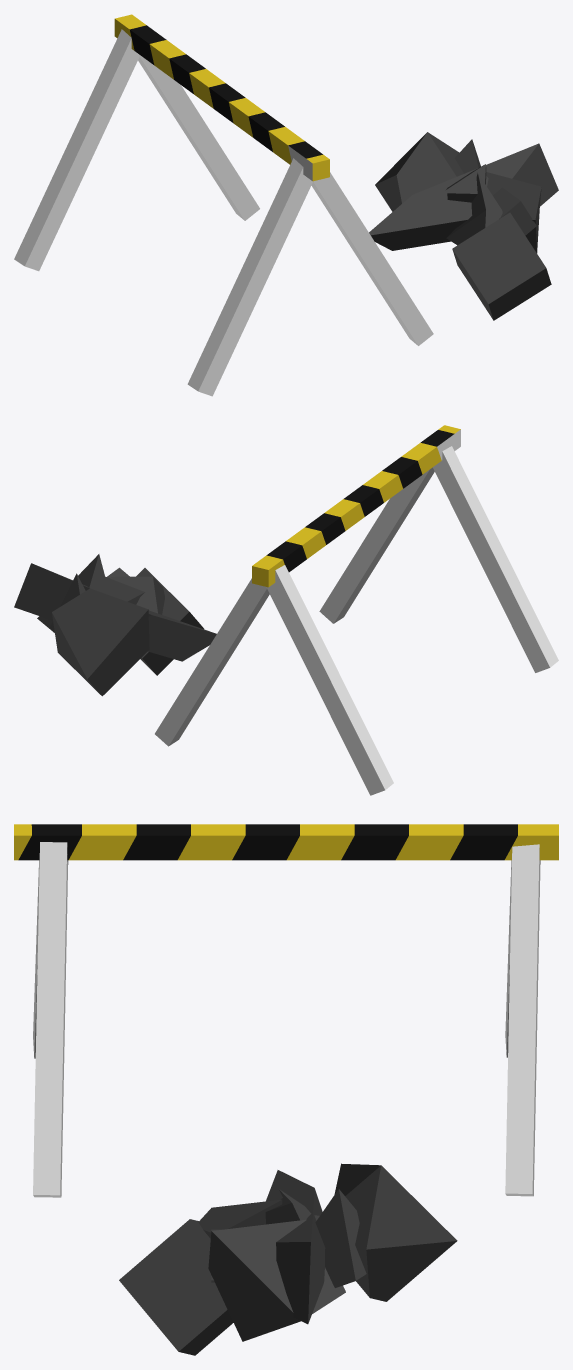
The model's file is obstaculo.glb.
3 views of the same model, one above another, from view 1: azimuth 30°, elevation 25°; view 2: azimuth 150°, elevation 25°; view 3: azimuth 270°, elevation 25° (orthographic). The views are drawn at different scales.
Visible parts, largest first — view 1: Cavalete; view 2: Cavalete; view 3: Cavalete.
Part boxes in pixels (x1,y1,x2,y2): Cavalete: (14,14,558,396); Cavalete: (14,425,558,795); Cavalete: (14,824,558,1355).
Bounding box in the file's own units: 2.7 × 1.48 × 2.
